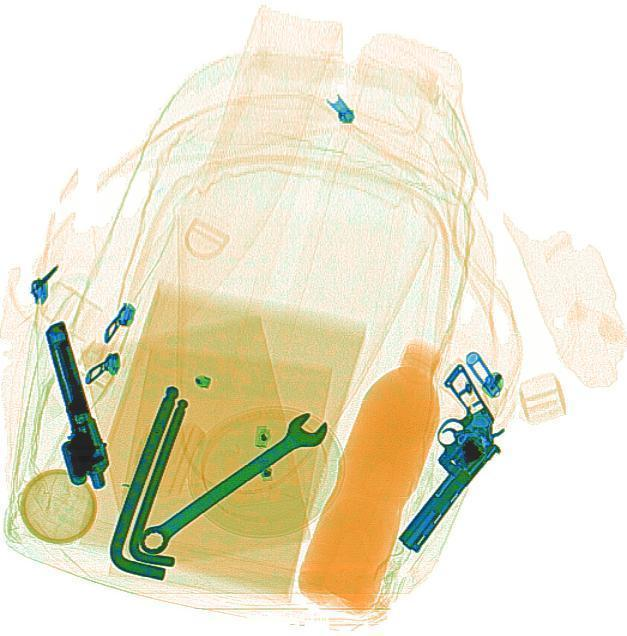Gun: (343, 363, 530, 555), (24, 317, 116, 496)
Wrench: (130, 405, 334, 564)
